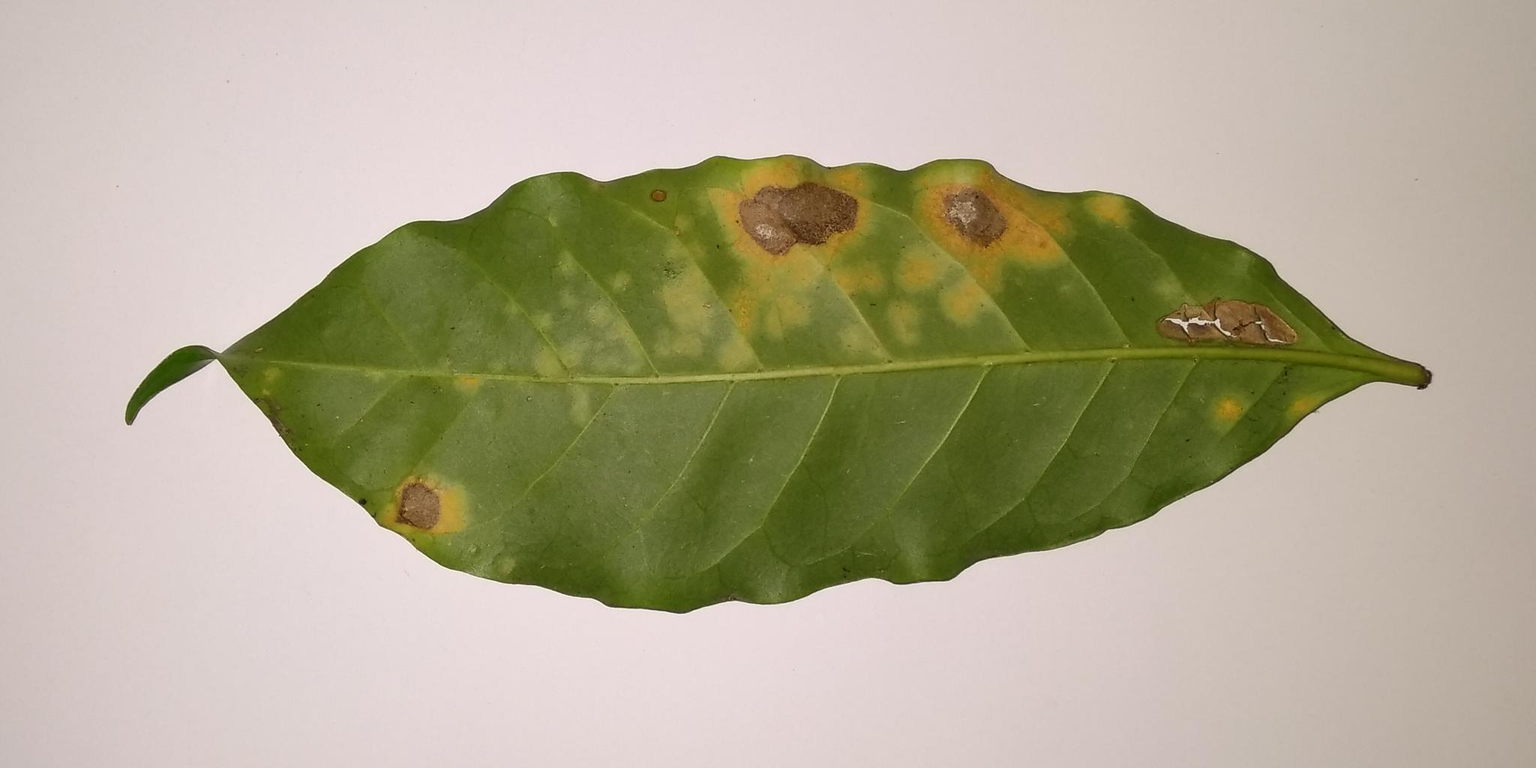Miner: (1142, 285, 1304, 356)
Rust: (893, 156, 1133, 339), (690, 143, 890, 356), (362, 460, 488, 566)
